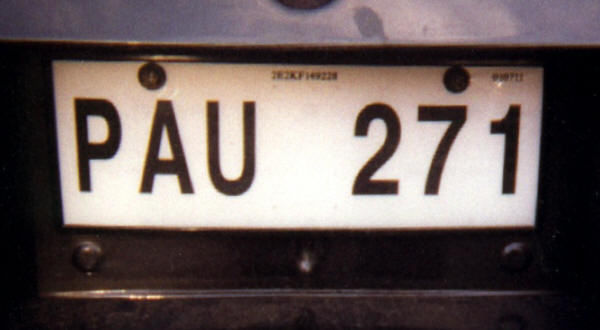license_plate: (51, 60, 545, 229)
